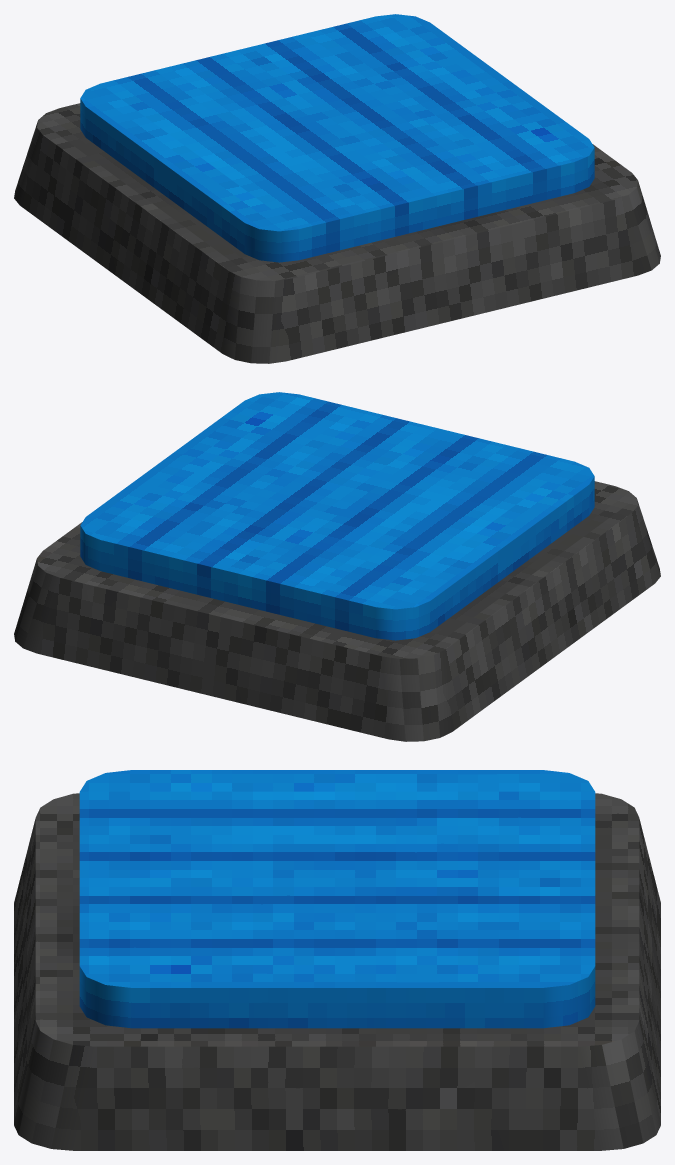
The model's file is SquareButton.fbx.
3 views of the same model, one above another, from view 1: azimuth 30°, elevation 25°; view 2: azimuth 150°, elevation 25°; view 3: azimuth 270°, elevation 25° (orthographic). The views are drawn at different scales.
Parts seen in each view (by area): view 1: SquareButton:pCube4, SquareButton:pCube5; view 2: SquareButton:pCube4, SquareButton:pCube5; view 3: SquareButton:pCube4, SquareButton:pCube5.
Boxes of the visible parts, <box> form: SquareButton:pCube4: <box>80,14,594,262</box>; SquareButton:pCube5: <box>14,103,660,363</box>; SquareButton:pCube4: <box>80,392,594,640</box>; SquareButton:pCube5: <box>14,481,660,741</box>; SquareButton:pCube4: <box>79,770,595,1028</box>; SquareButton:pCube5: <box>14,793,660,1150</box>.
Bounding box in the file's own units: 5.63 × 1.3 × 5.63.
Materials: 1 (1 with a texture image).
